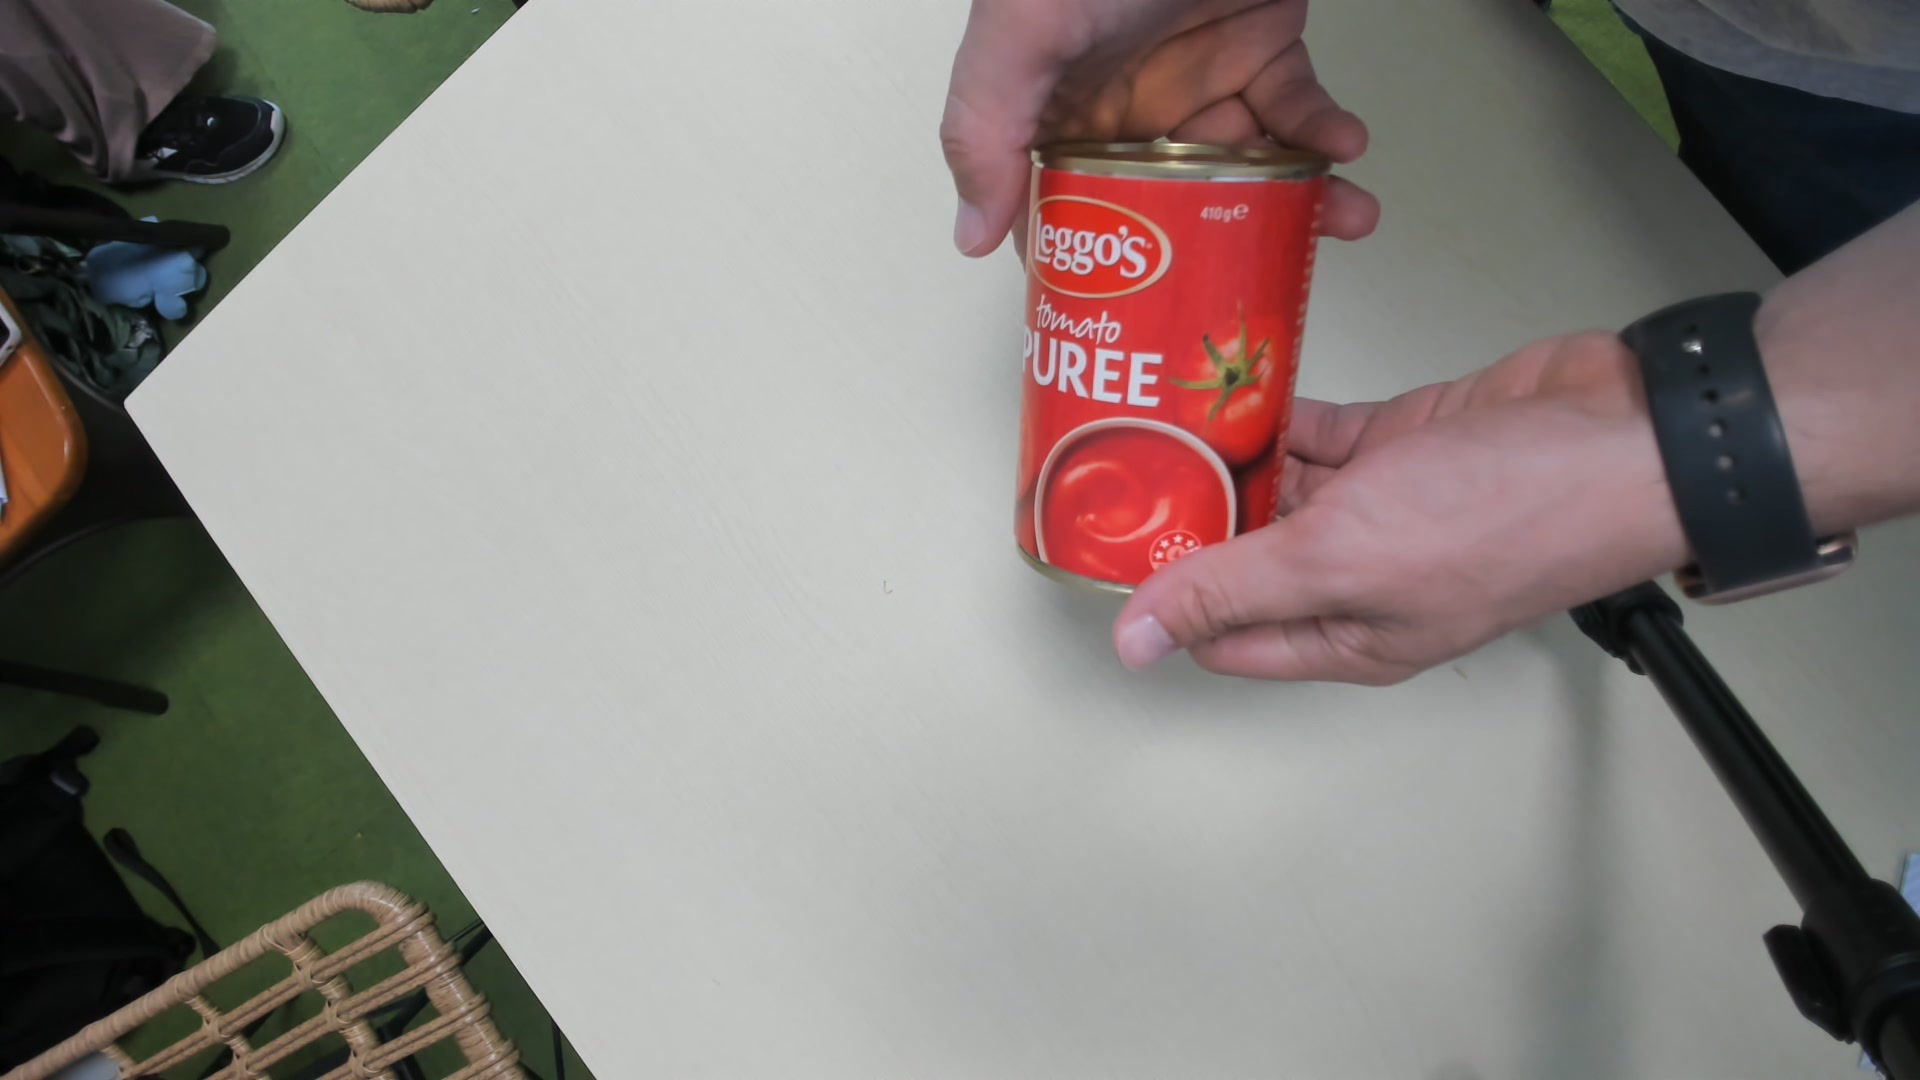OtherSauceDressingSoupbasePaste_400-499g_Halal_NonHealthy: (1018, 132, 1340, 608)
